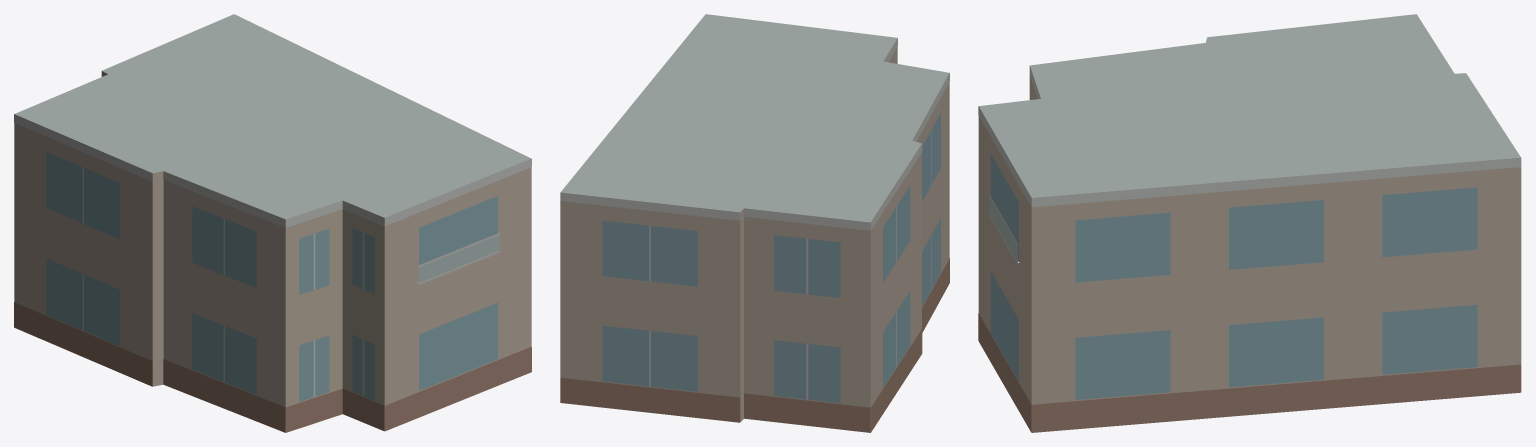
Rendered from survey-upis-32680377.glb.
3 views of the same model, side by side, from view 1: azimuth 30°, elevation 25°; view 2: azimuth 150°, elevation 25°; view 3: azimuth 270°, elevation 25° (orthographic). The views are drawn at different scales.
Visible parts, largest first — view 1: survey-upis-32680377.tmp; view 2: survey-upis-32680377.tmp; view 3: survey-upis-32680377.tmp.
Boxes of the visible parts, <box> form: survey-upis-32680377.tmp: <box>14,14,531,432</box>; survey-upis-32680377.tmp: <box>560,14,949,432</box>; survey-upis-32680377.tmp: <box>978,14,1521,432</box>.
Bounding box in the file's own units: 10.25 × 6.1 × 12.78.
